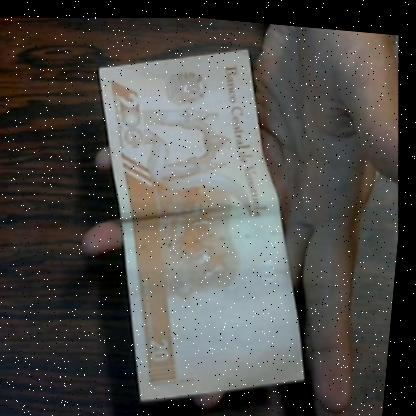twenty-back-vef: (77, 29, 335, 416)
